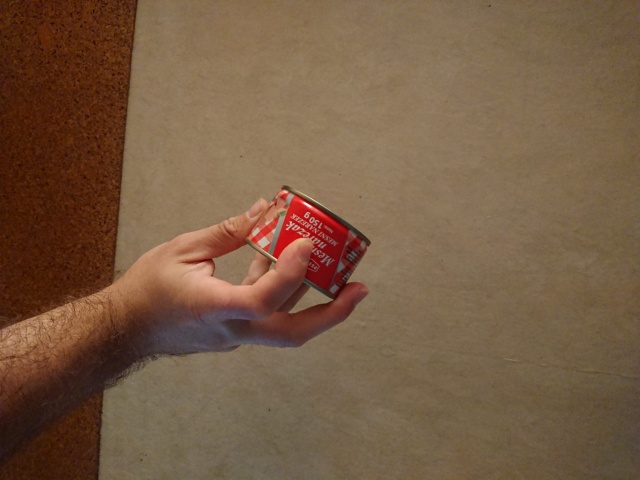Podravka Luncheon Meat 150g: (240, 181, 376, 304)
